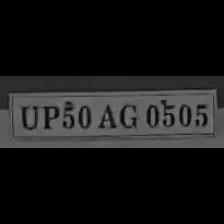0: (74, 100, 94, 128), (142, 100, 160, 128), (176, 99, 194, 127)
5: (191, 99, 211, 127), (158, 98, 176, 128), (59, 99, 75, 129)
A: (94, 100, 116, 130)
G: (118, 99, 138, 129)
P: (38, 101, 58, 129)
U: (15, 100, 39, 130)
